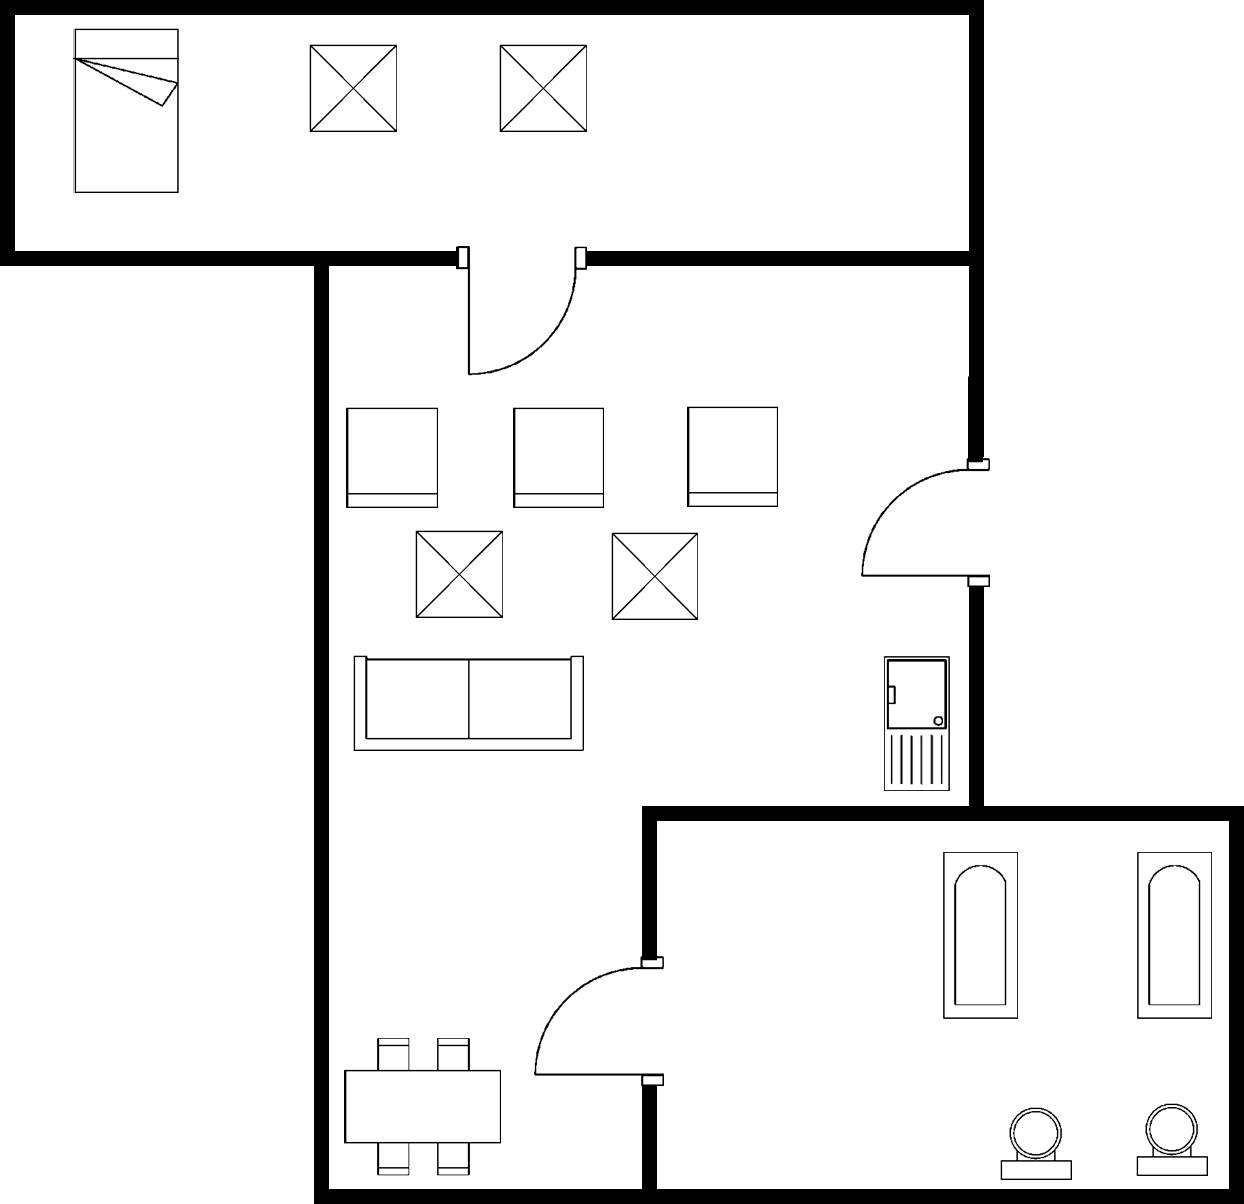bed: (66, 22, 186, 201)
coffee_table: (299, 35, 404, 142), (409, 523, 511, 628), (604, 523, 705, 628), (492, 39, 594, 138)
dining_table: (334, 1033, 515, 1179)
large_sink: (1126, 1094, 1215, 1182), (991, 1101, 1082, 1185)
large_sofa: (341, 648, 594, 762)
sink: (874, 647, 957, 802)
small_sofa: (337, 398, 446, 518), (508, 403, 612, 520), (681, 399, 784, 516)
tub: (932, 840, 1031, 1023), (1130, 842, 1219, 1027)
